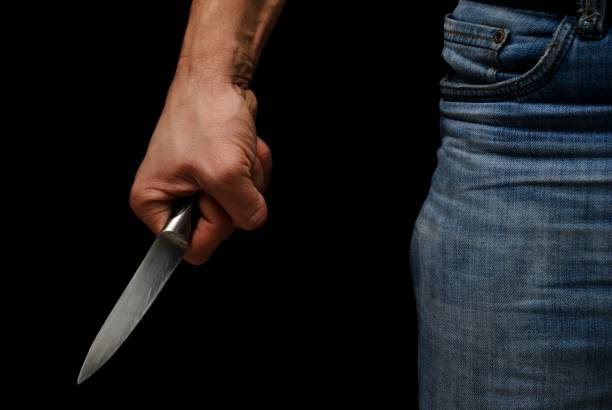knife: (72, 184, 208, 386)
